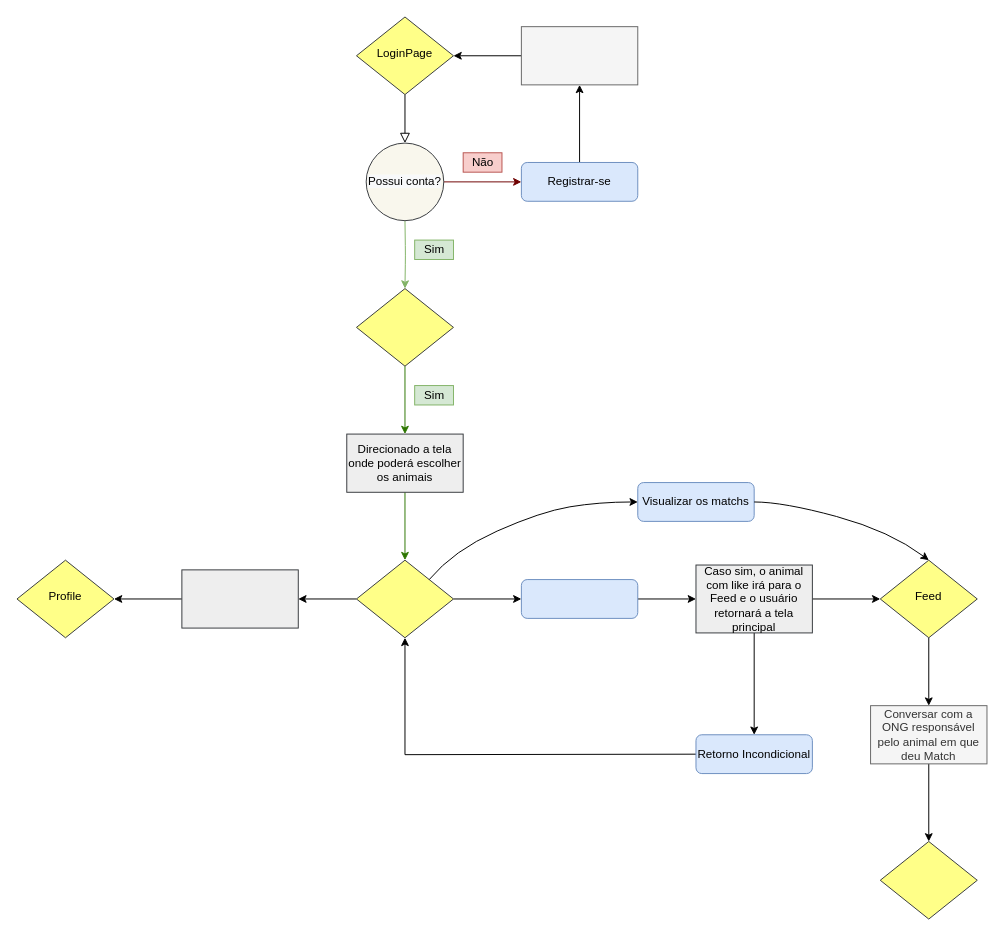
Some shapes in this 1004 by 936 pixel diagram are drawn without their labels. Here are the shapes that lost their labels. From the top down, the centre of each, then its label:
the point at 579,55: Após registrar-se
the point at 404,327: Login
the point at 239,598: Tela para adicionar fotos, vídeos, status e informações
the point at 404,598: HomePage
the point at 579,598: Like / Super Like
the point at 928,880: Chat
